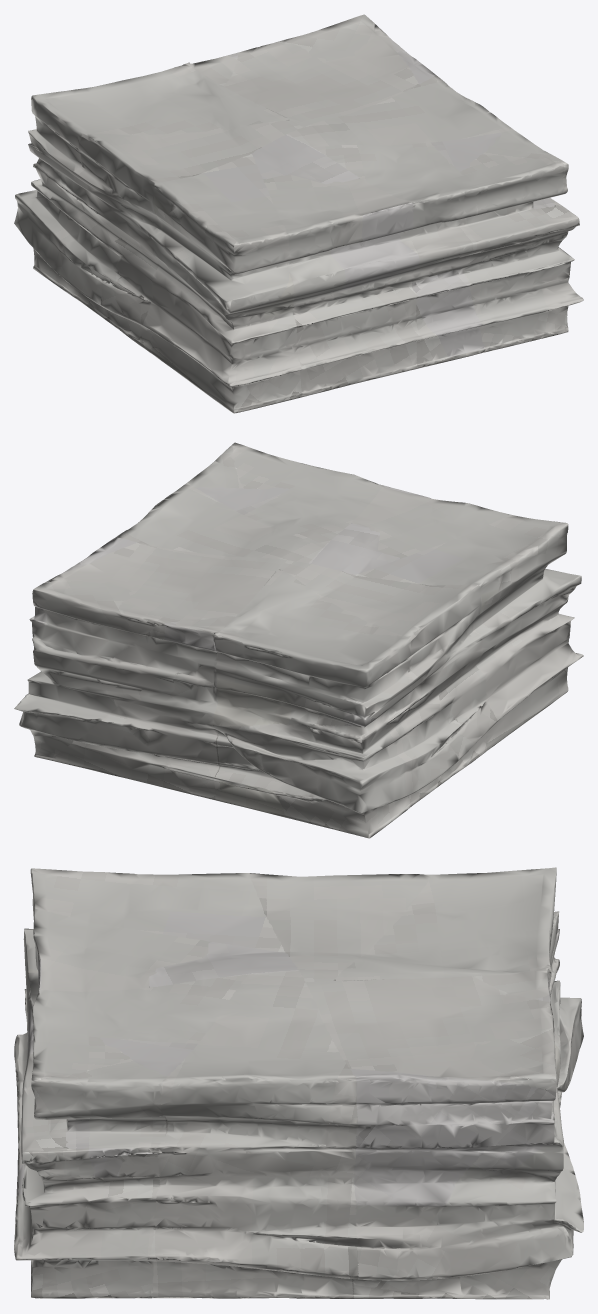
File: s_postit_stack.glb
The picture shows the model from 3 angles, top to bottom: view 1: azimuth 30°, elevation 25°; view 2: azimuth 150°, elevation 25°; view 3: azimuth 270°, elevation 25°; orthographic projection. The views are drawn at different scales.
Parts seen in each view (by area): view 1: tripo_node_d13adab1-aaac-4c9d-a037-f68857a35ae3; view 2: tripo_node_d13adab1-aaac-4c9d-a037-f68857a35ae3; view 3: tripo_node_d13adab1-aaac-4c9d-a037-f68857a35ae3.
Boxes of the visible parts, left/top/right/bottom form: tripo_node_d13adab1-aaac-4c9d-a037-f68857a35ae3: left=14, top=14, right=583, bottom=413; tripo_node_d13adab1-aaac-4c9d-a037-f68857a35ae3: left=14, top=442, right=583, bottom=838; tripo_node_d13adab1-aaac-4c9d-a037-f68857a35ae3: left=14, top=867, right=583, bottom=1299.
Bounding box in the file's own units: 0.9429 × 0.4293 × 0.9991.
Materials: 1 (1 with a texture image).
